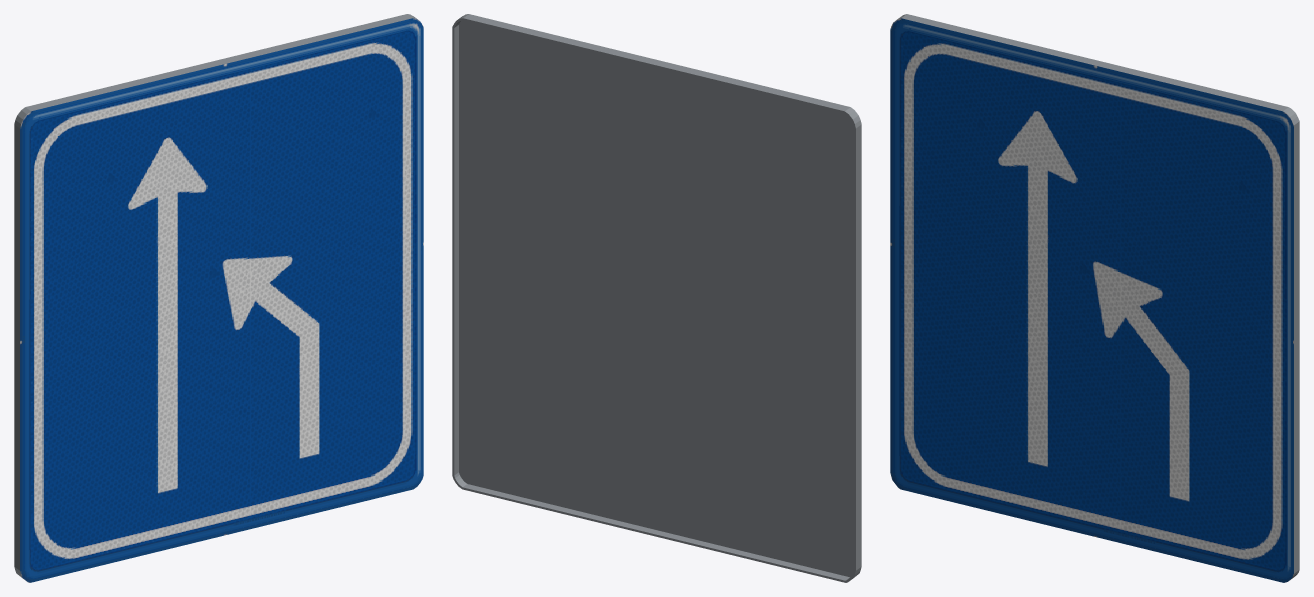
The picture shows the model from 3 angles, left to right: view 1: azimuth 30°, elevation 25°; view 2: azimuth 150°, elevation 25°; view 3: azimuth 330°, elevation 25°; orthographic projection.
Visible parts, largest first — view 1: cat_5f013277f345d812; view 2: cat_5f013277f345d812; view 3: cat_5f013277f345d812.
Boxes of the visible parts, bbox=[...] form: cat_5f013277f345d812: bbox=[14, 14, 423, 582]; cat_5f013277f345d812: bbox=[452, 14, 861, 582]; cat_5f013277f345d812: bbox=[890, 14, 1299, 582].
Bounding box in the file's own units: 0.6 × 0.015 × 0.6696.
Materials: 2 (1 with a texture image).
